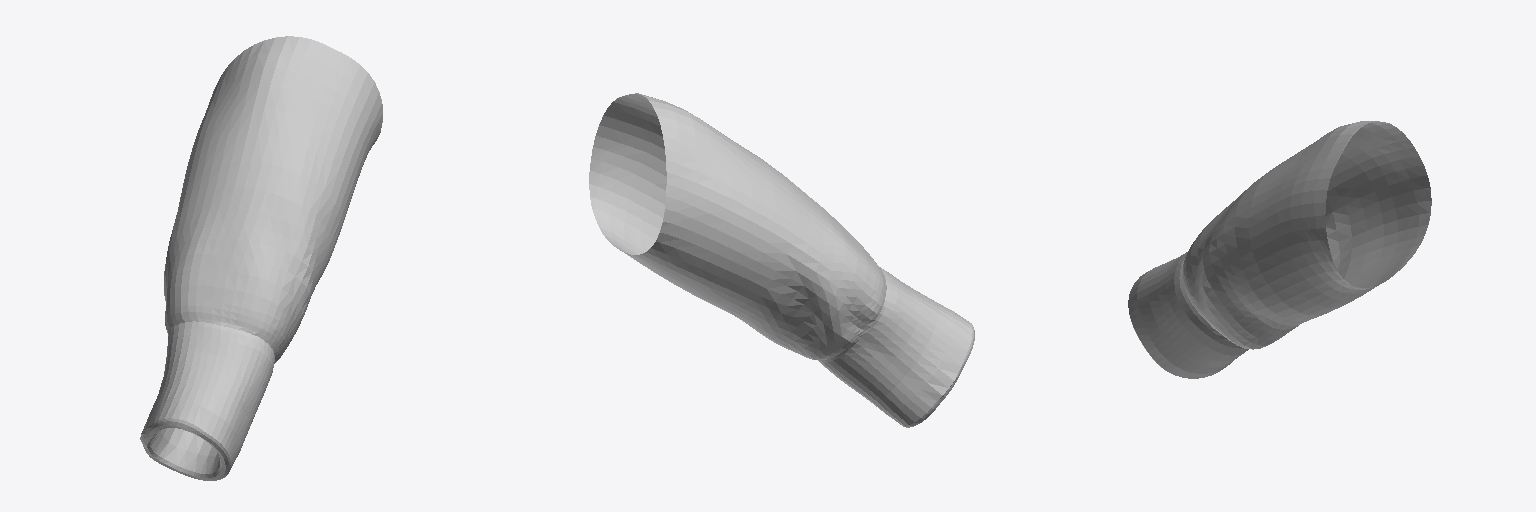
The model's file is lowerarm_r.obj.
3 renders of one model, left to right at view 1: azimuth 30°, elevation 25°; view 2: azimuth 150°, elevation 25°; view 3: azimuth 270°, elevation 25°, orthographic.
Parts seen in each view (by area): view 1: torso.001; view 2: torso.001; view 3: torso.001.
Part boxes in pixels (x1,y1,x2,y2): torso.001: (140, 36, 382, 480); torso.001: (589, 93, 974, 427); torso.001: (1128, 121, 1431, 378).
Bounding box in the file's own units: 0.1828 × 0.1948 × 0.1581.